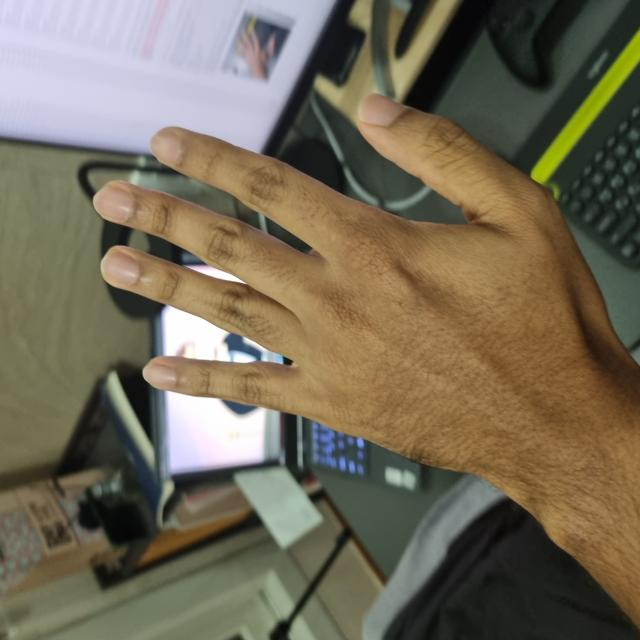Paper: (137, 97, 545, 629)
